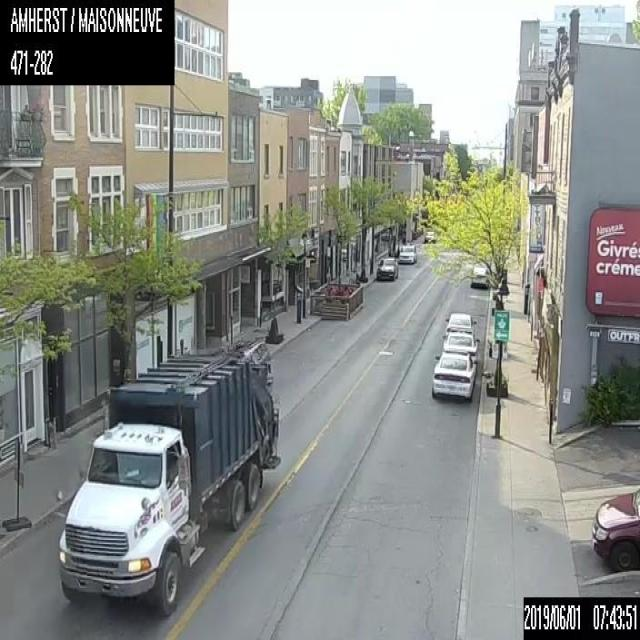vehicle: (54, 338, 281, 618), (591, 485, 639, 573), (431, 351, 476, 401), (443, 330, 479, 361), (444, 312, 476, 337), (376, 256, 398, 280), (470, 266, 487, 287), (398, 243, 416, 262), (423, 229, 435, 243)
